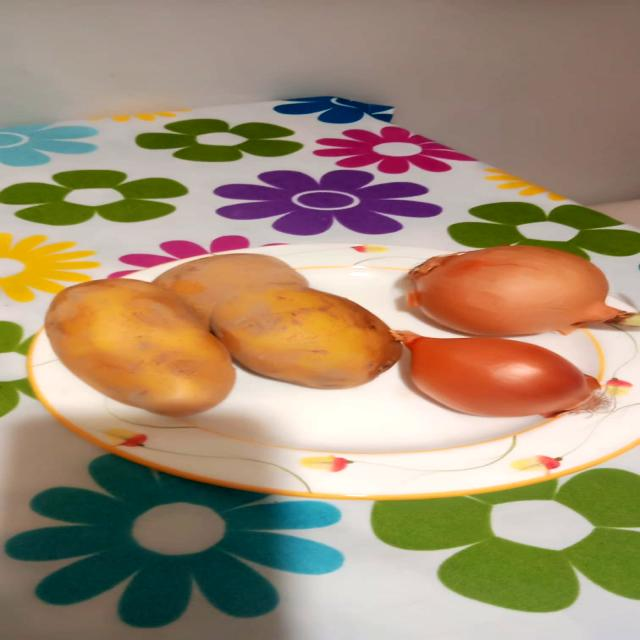onion: (390, 327, 620, 432), (396, 241, 639, 338)
potato: (21, 272, 248, 419), (199, 278, 404, 390)
